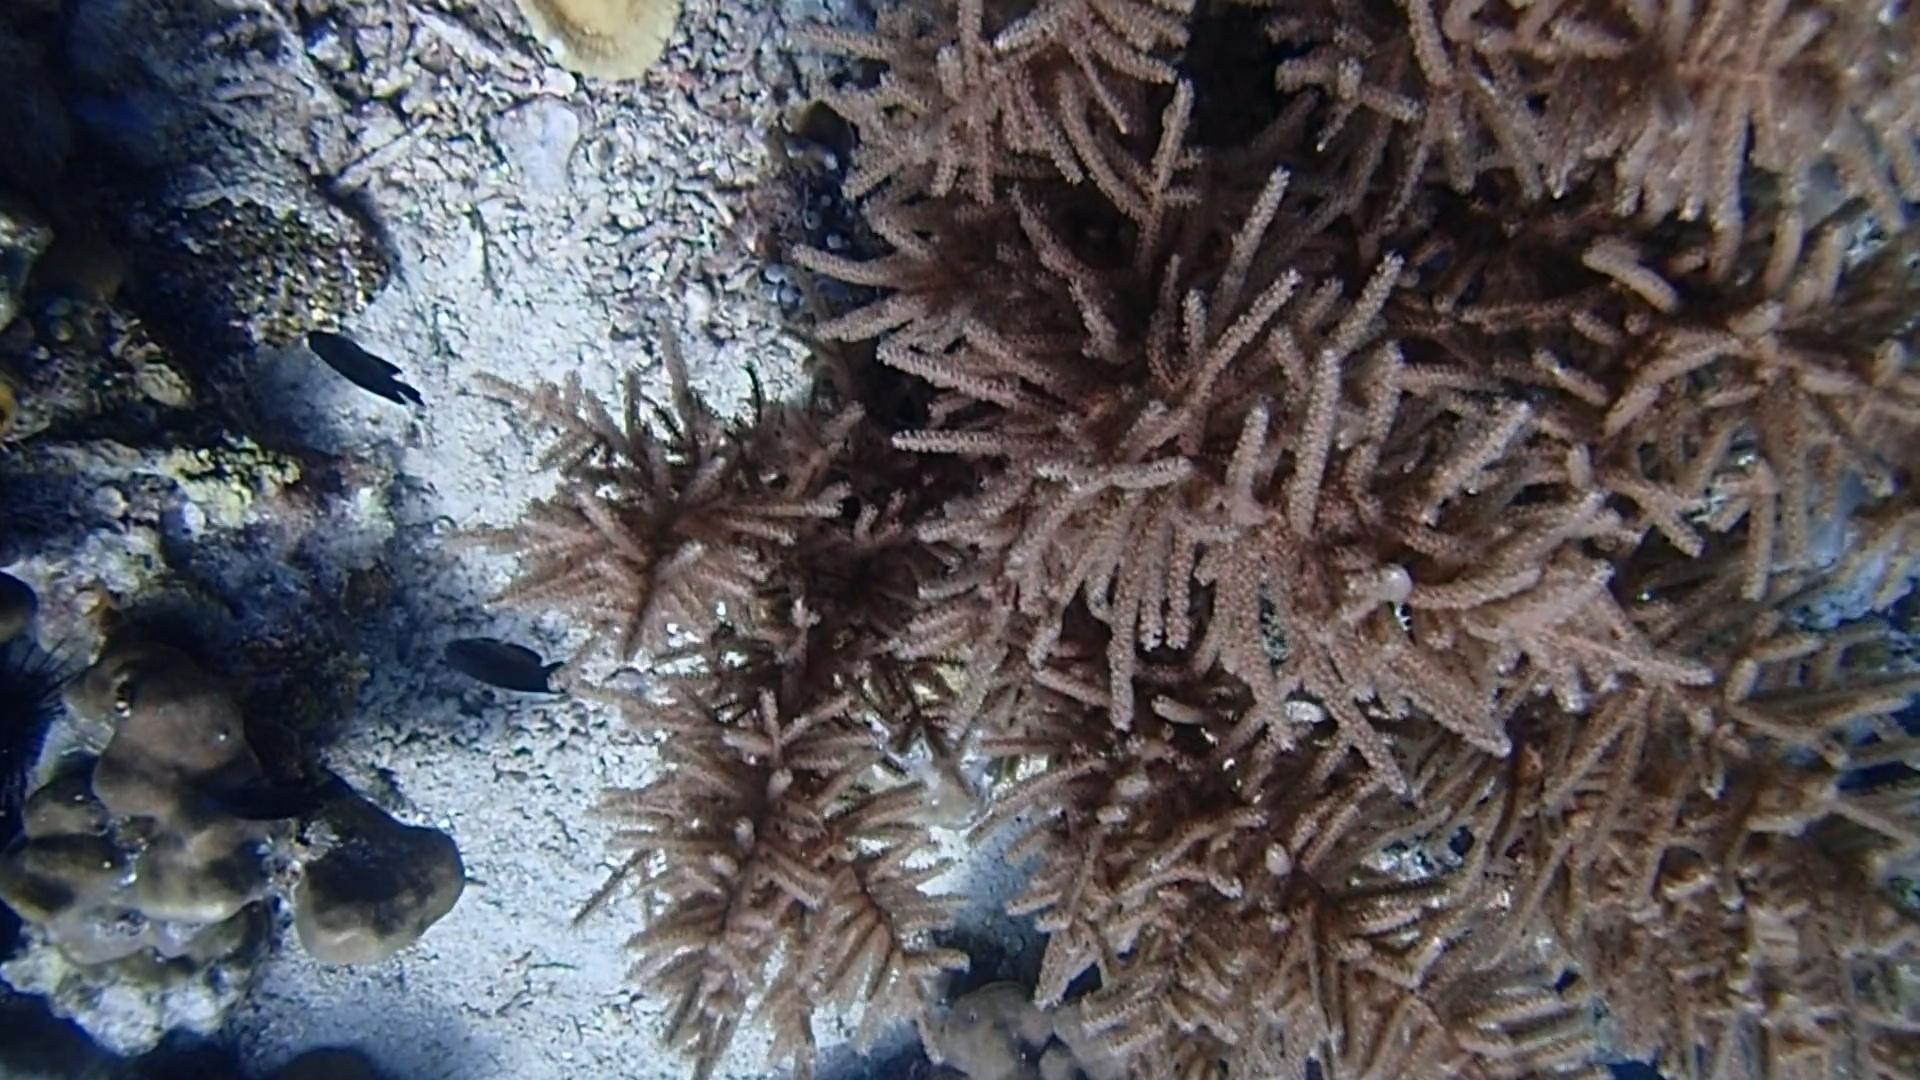Dark Fish: (301, 320, 431, 418), (435, 629, 587, 709), (206, 758, 339, 835)
